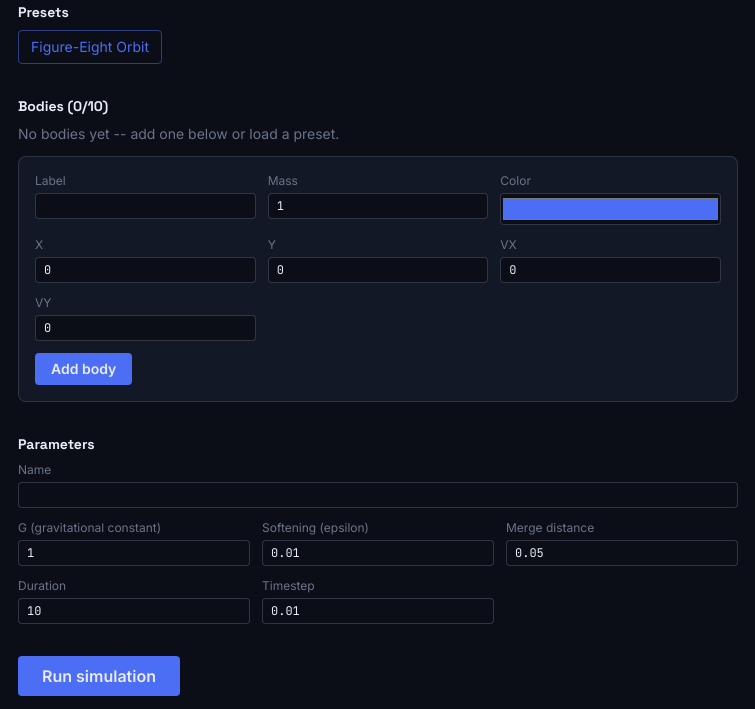
Test: BuilderPage › shows a validation error when running with fewer than 2 bodies
(page scrolled)
Click the button "Run simulation" at x=99, y=676, box [18,656,180,696]
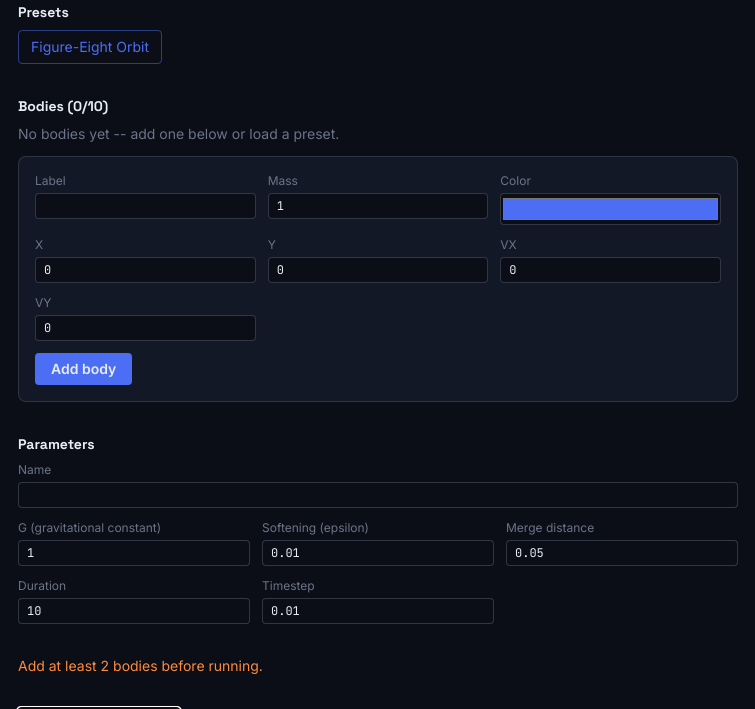
Check: the text "Add at least 2 bodies before running." is shown, box [18,657,263,674]
